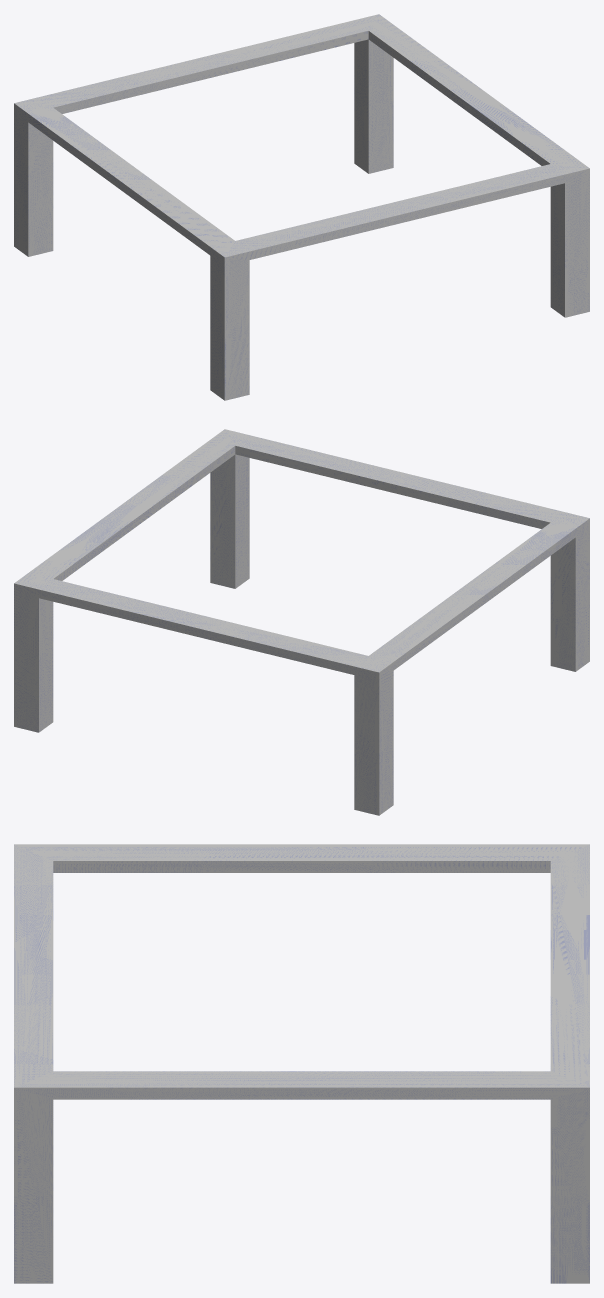
File: table.obj
The picture shows the model from 3 angles, top to bottom: view 1: azimuth 30°, elevation 25°; view 2: azimuth 150°, elevation 25°; view 3: azimuth 270°, elevation 25°; orthographic projection. The views are drawn at different scales.
Visible parts, largest first — view 1: SketchUp_ID38; view 2: SketchUp_ID38; view 3: SketchUp_ID38.
Part boxes in pixels (x1,y1,x2,y2): SketchUp_ID38: [14, 14, 589, 400]; SketchUp_ID38: [14, 429, 589, 815]; SketchUp_ID38: [14, 844, 589, 1283].
Bounding box in the file's own units: 1.12 × 0.4191 × 1.12.
